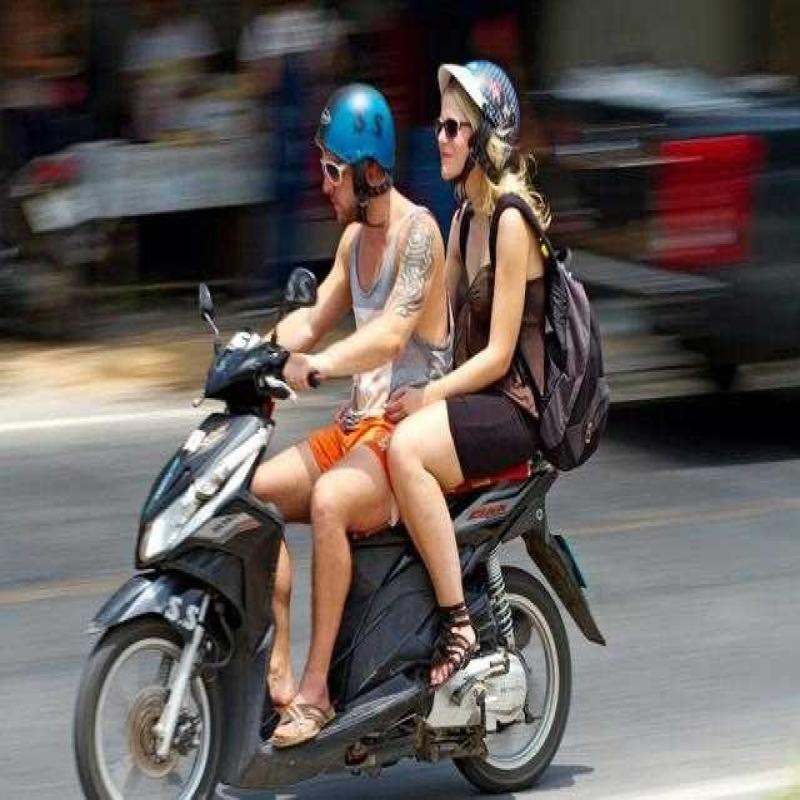bike: (156, 251, 582, 800)
